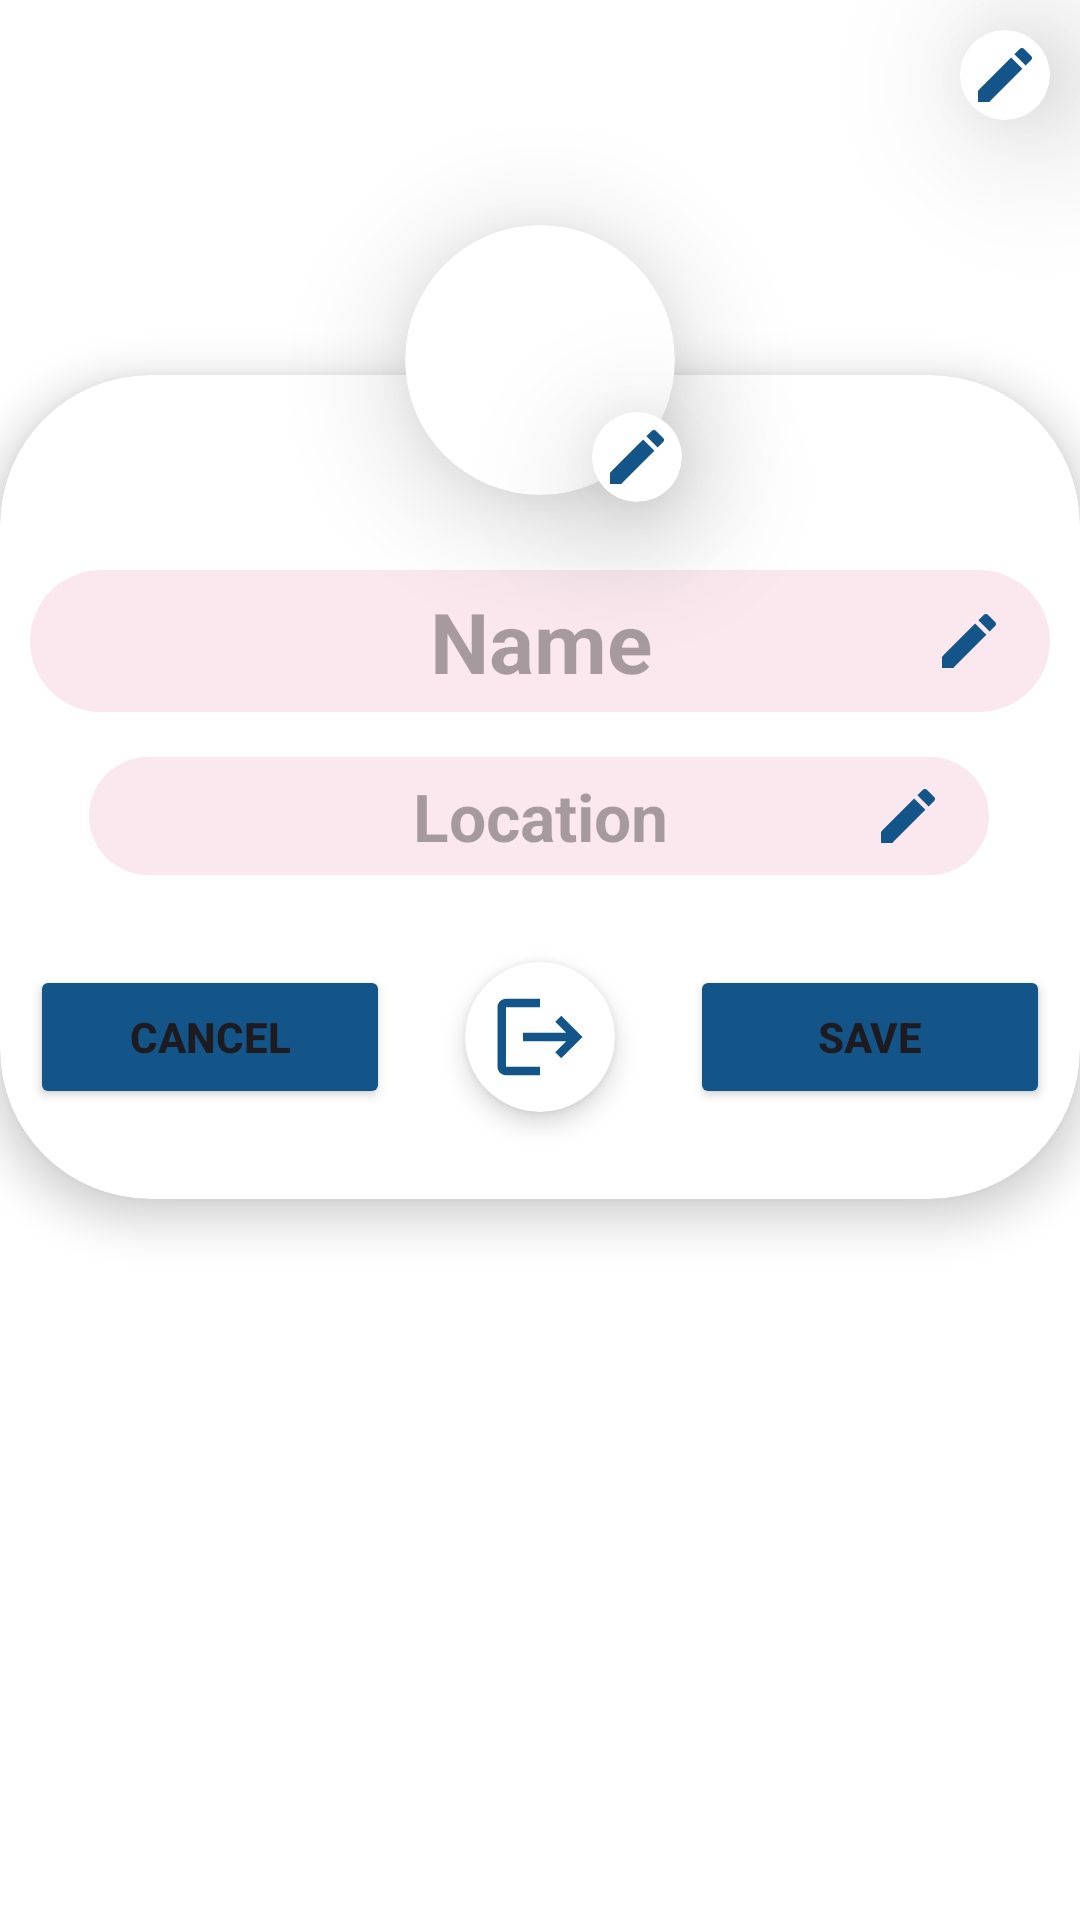

Icon click points for this 1080px×1920px phone screenshot, format (x,y):
edit: (1005,75), (637,457)
